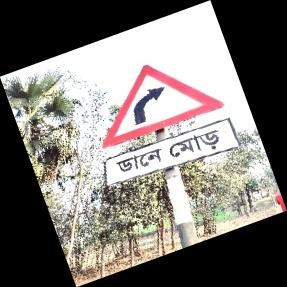Right-turn: (100, 65, 235, 182)
